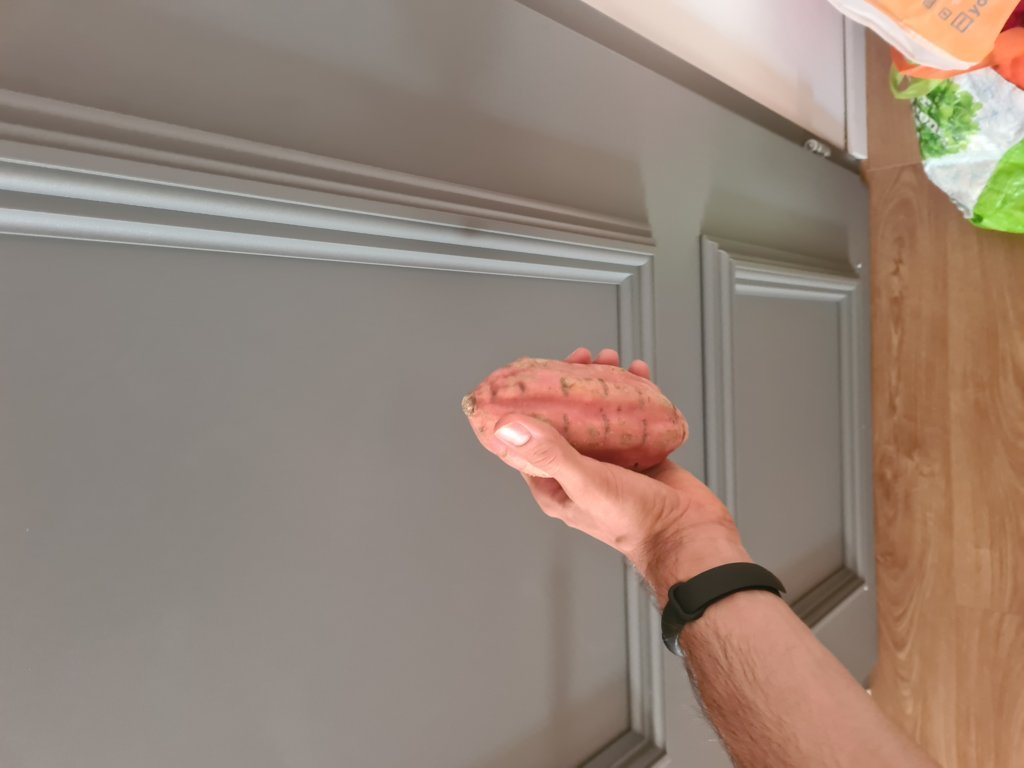Sweet Potatow: (466, 358, 704, 477)
